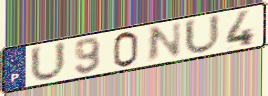0: (112, 30, 141, 69)
4: (224, 7, 258, 47)
9: (72, 37, 102, 76)
N: (145, 20, 184, 66)
U: (183, 12, 223, 56), (29, 40, 69, 83)
